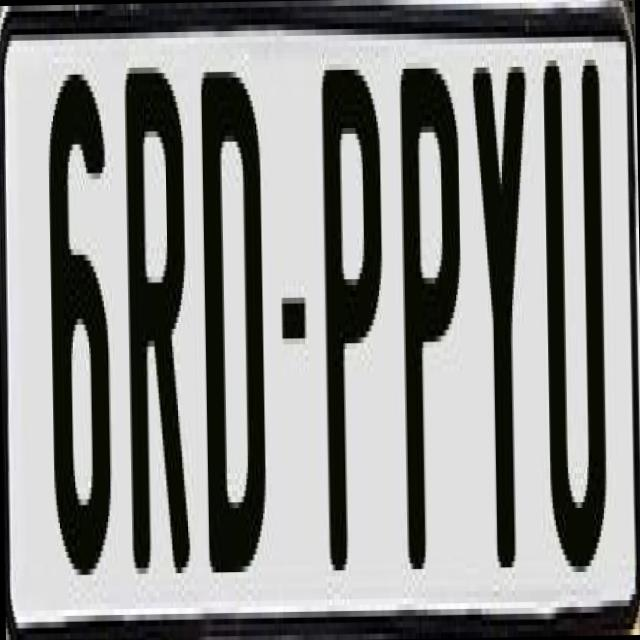6: (44, 73, 116, 575)
D: (197, 70, 269, 590)
P: (394, 50, 464, 586), (316, 57, 386, 559)
R: (120, 66, 192, 603)
U: (542, 48, 612, 560)
Y: (469, 66, 537, 568)
